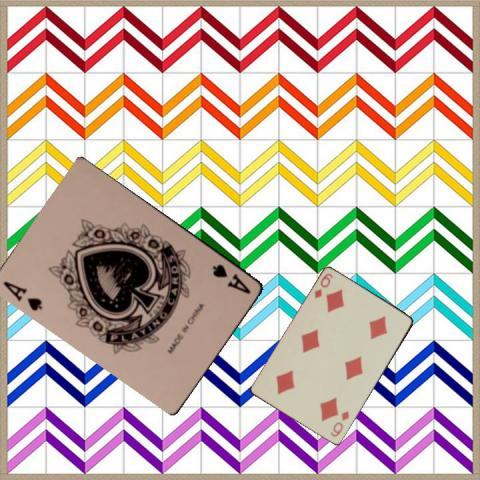6d: (327, 408, 351, 439), (311, 271, 335, 300)
As: (0, 278, 45, 313), (209, 261, 253, 295)
